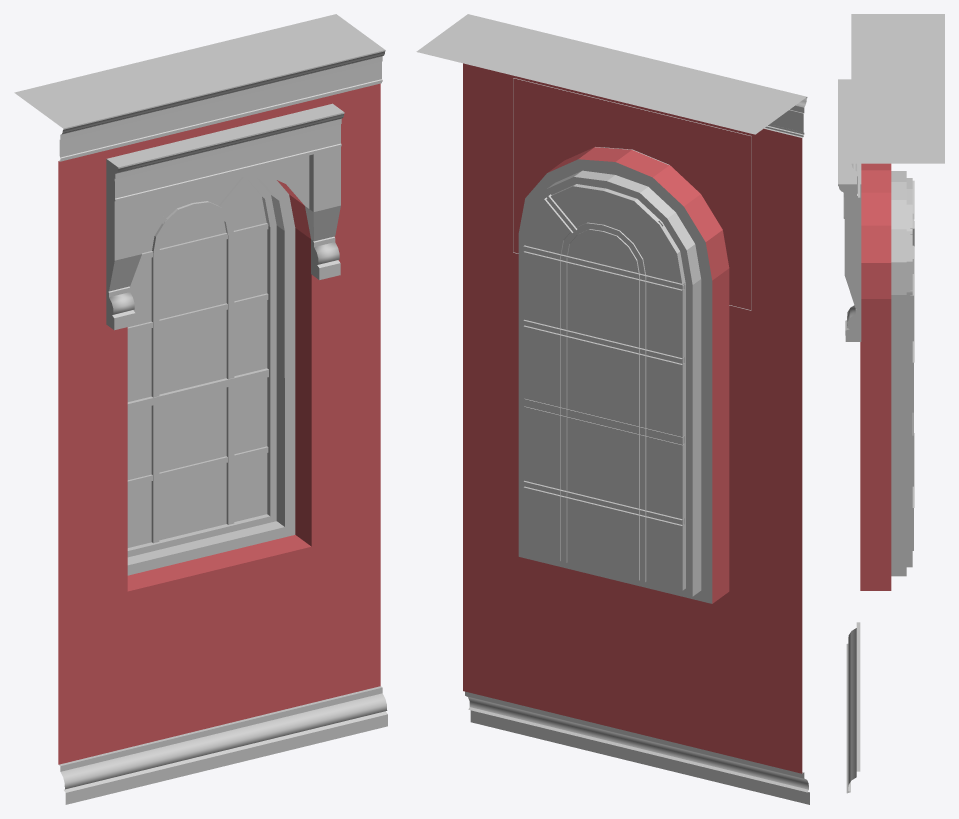
Rendered from station_window_arch.fbx.
3 views of the same model, side by side, from view 1: azimuth 30°, elevation 25°; view 2: azimuth 150°, elevation 25°; view 3: azimuth 270°, elevation 25° (orthographic). The views are drawn at different scales.
Visible parts, largest first — view 1: window_arch; view 2: window_arch; view 3: window_arch.
Boxes of the visible parts, left/top/right/bottom form: window_arch: left=14, top=14, right=387, bottom=804; window_arch: left=416, top=14, right=809, bottom=804; window_arch: left=838, top=14, right=944, bottom=793.
Bounding box in the file's own units: 1.8 × 3.6 × 0.544.
